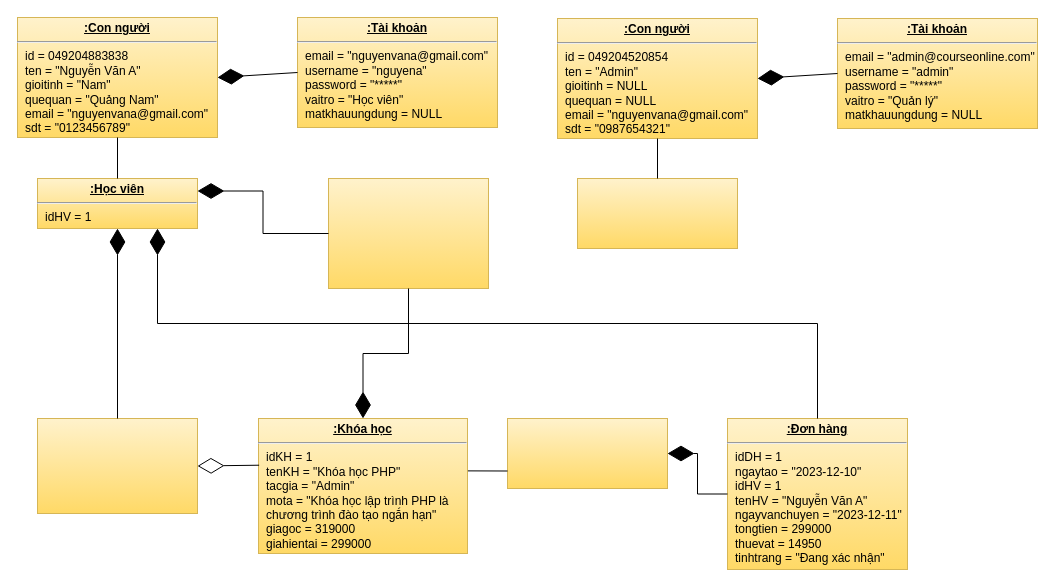
Image size: 1055x587. Some labels were removed from this diagram. The centre of each missing label's shape, as x and y in pixels:
:Chi tiết đơn hàng idDH = 1 idKH = 1: point (587, 453)
:Giỏ hàng idGH = 1 idKH = 1 soluong = 1 thanhtien = 299000: point (117, 466)
:Quản lý idQL = 1 chucvu = "Quản lý": point (657, 213)
:Đánh giá idDG = 1 idHV = 1 idKH = 1 noidung = "OK!" sao = 5: point (408, 233)
